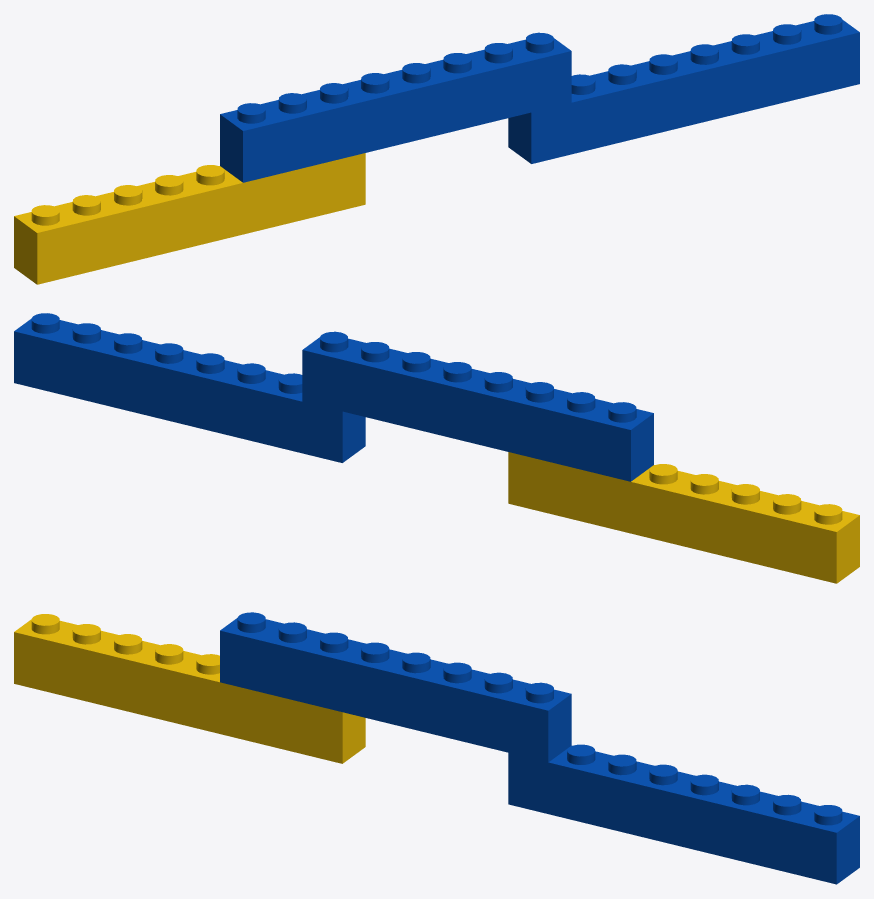
File: best_bridge.glb
3 renders of one model, top to bottom at view 1: azimuth 30°, elevation 25°; view 2: azimuth 150°, elevation 25°; view 3: azimuth 330°, elevation 25°, orthographic.
Visible parts, largest first — view 1: brick_001_brick_1x8, brick_000_brick_1x8, brick_002_brick_1x8; view 2: brick_001_brick_1x8, brick_000_brick_1x8, brick_002_brick_1x8; view 3: brick_001_brick_1x8, brick_000_brick_1x8, brick_002_brick_1x8.
Boxes of the visible parts, left/top/right/bottom form: brick_001_brick_1x8: left=220, top=32, right=571, bottom=182; brick_000_brick_1x8: left=508, top=14, right=859, bottom=163; brick_002_brick_1x8: left=14, top=153, right=365, bottom=284; brick_001_brick_1x8: left=302, top=331, right=653, bottom=481; brick_000_brick_1x8: left=14, top=313, right=365, bottom=462; brick_002_brick_1x8: left=508, top=452, right=859, bottom=583; brick_001_brick_1x8: left=220, top=612, right=571, bottom=762; brick_000_brick_1x8: left=508, top=744, right=859, bottom=884; brick_002_brick_1x8: left=14, top=614, right=365, bottom=763.
Size of the model in its own units: 0.1598 by 0.0208 by 0.0078.
